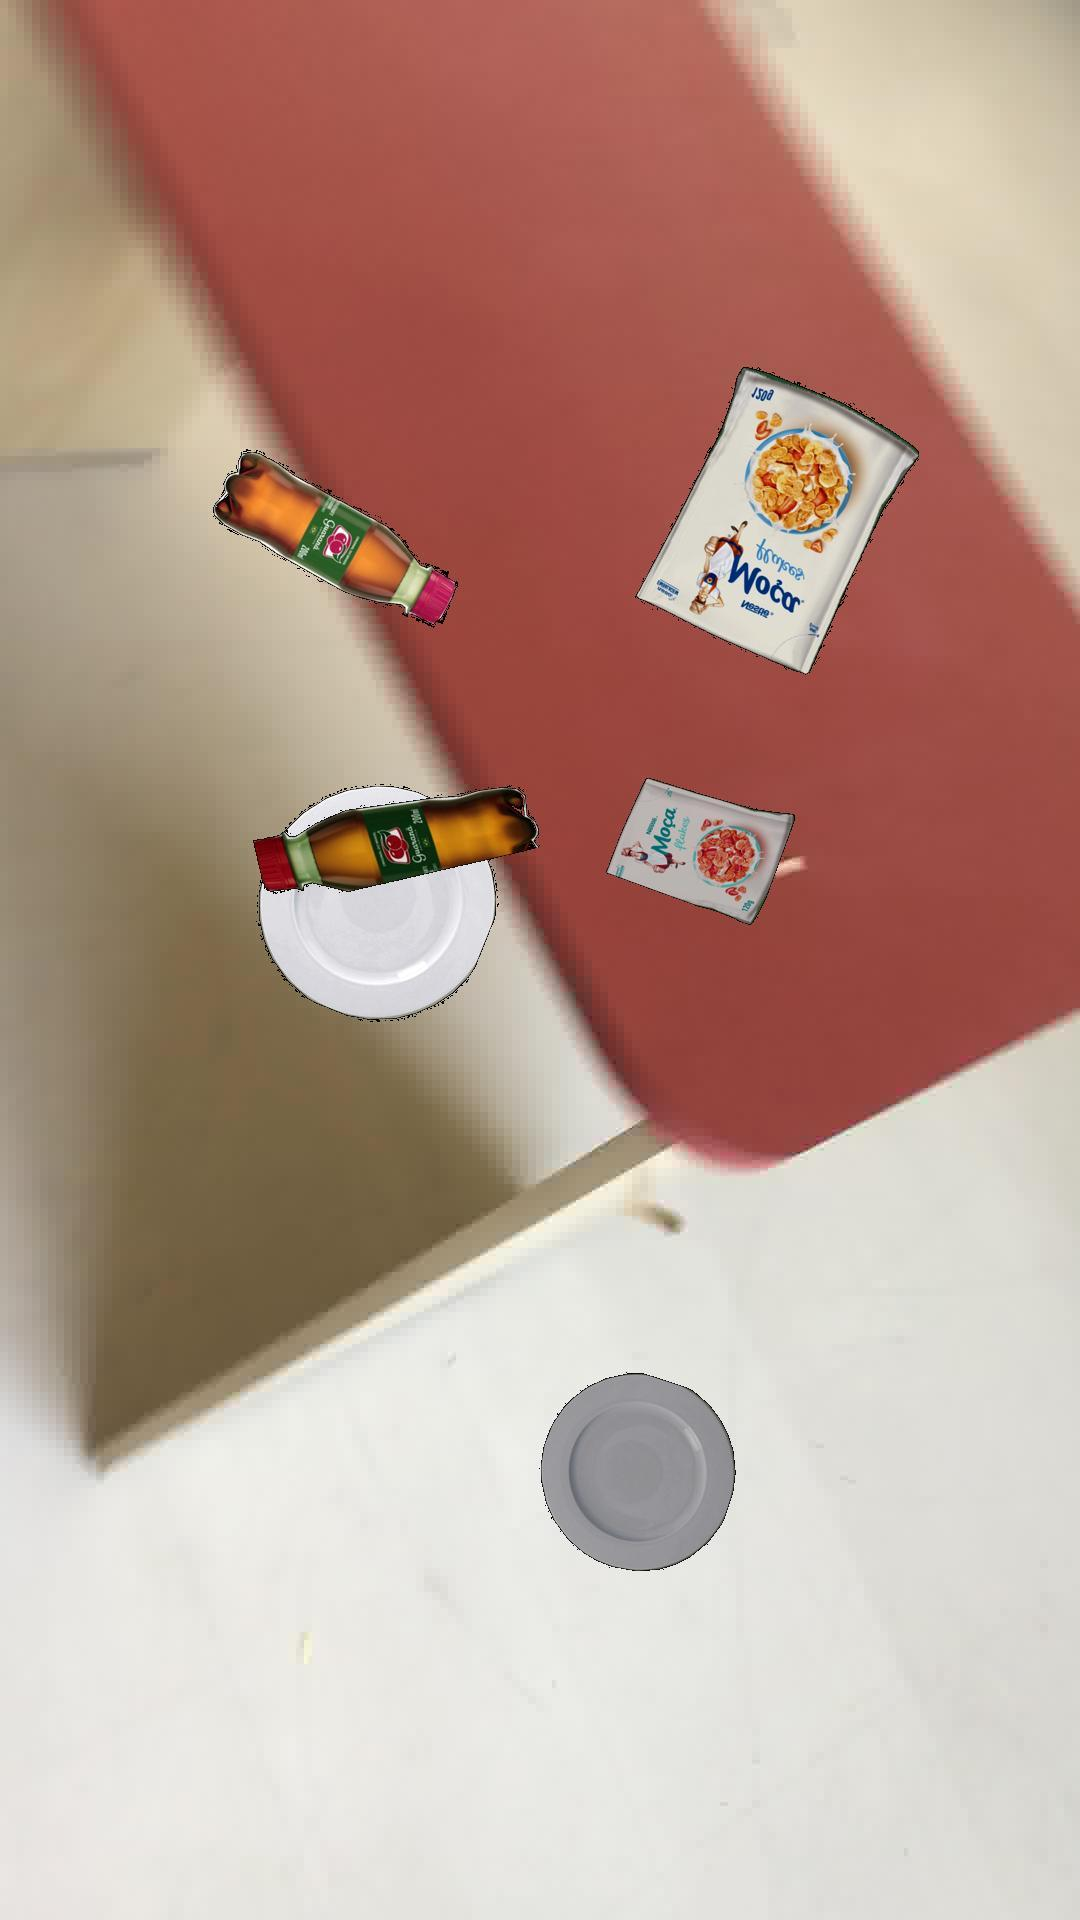corn flakes: (633, 365, 918, 674), (604, 777, 794, 923)
guarana: (211, 448, 456, 626), (252, 783, 538, 893)
plate: (257, 785, 495, 1021), (539, 1371, 735, 1569)
